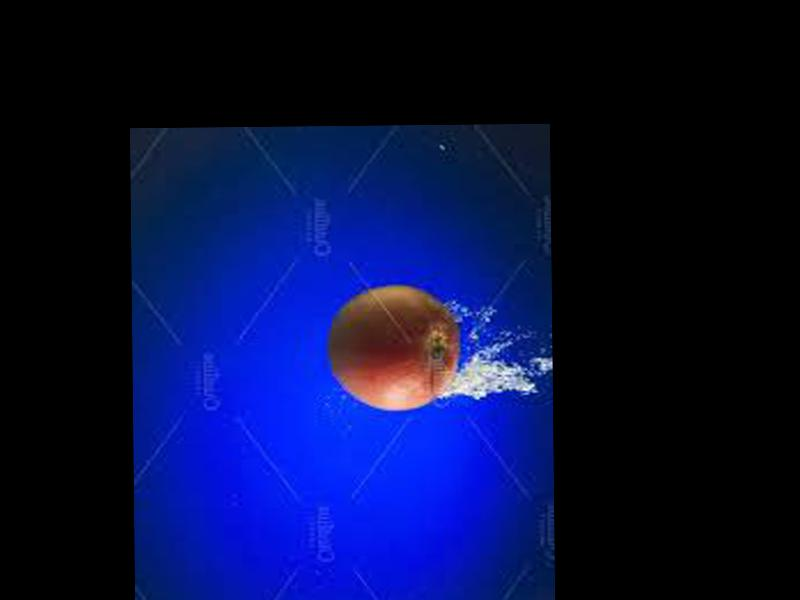Tomato: (331, 283, 460, 410)
